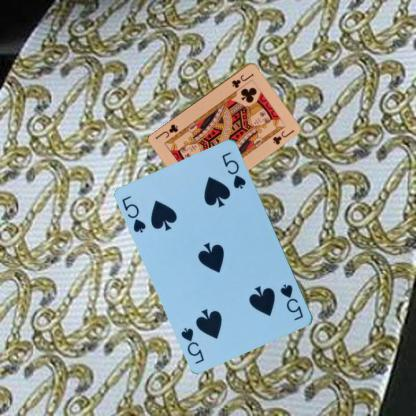5s: (119, 193, 147, 235), (277, 282, 305, 322)
Jc: (229, 70, 255, 89)
